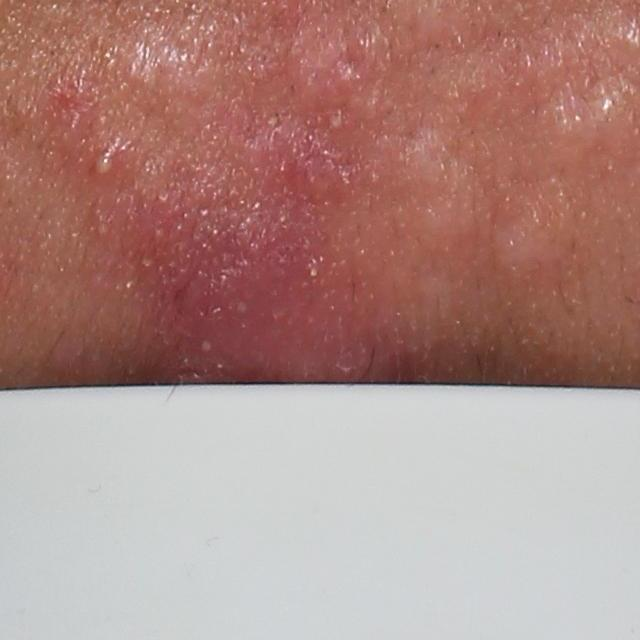hypertrophic_scar: (95, 19, 232, 136), (388, 123, 490, 264), (480, 211, 582, 275)
nodule: (145, 195, 409, 390)
pustule: (87, 144, 121, 180)
